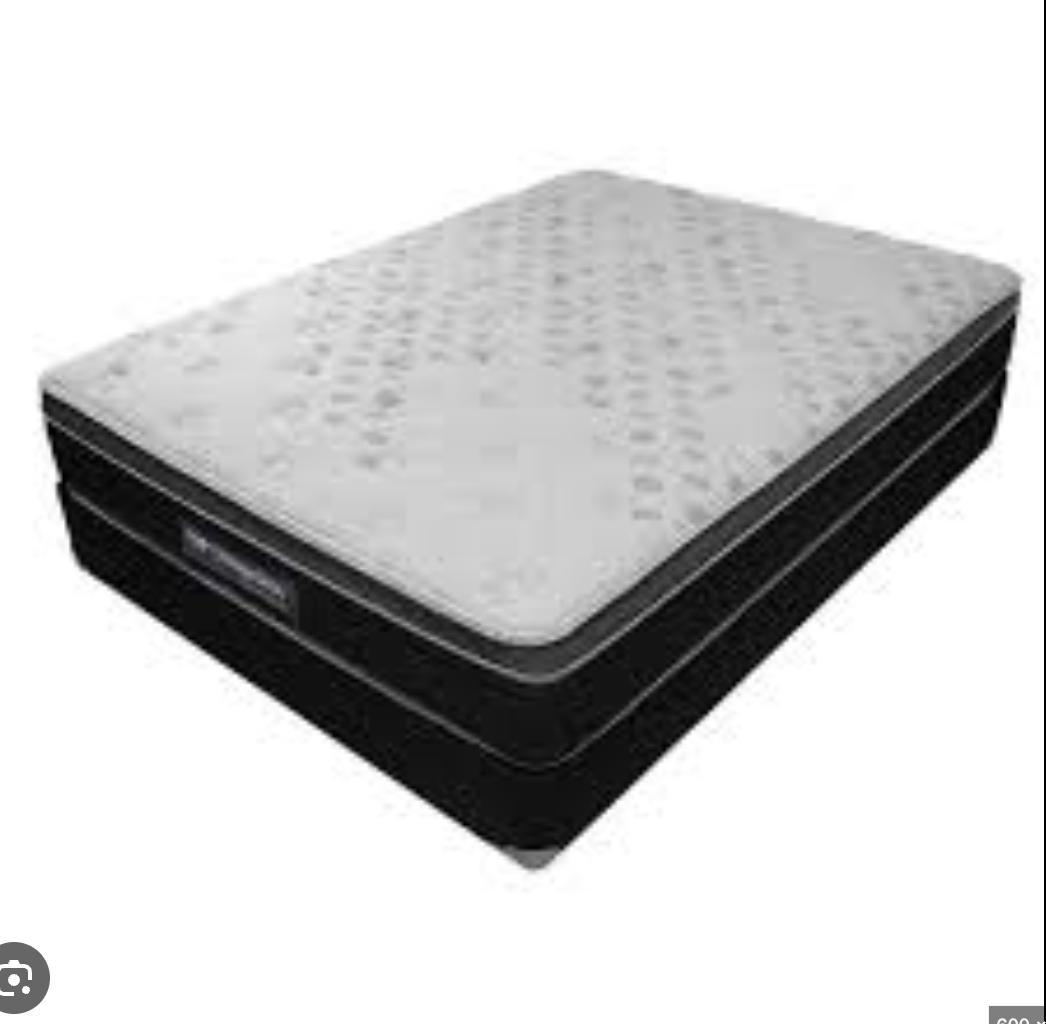Bed-Mattress: (32, 156, 1030, 886)
